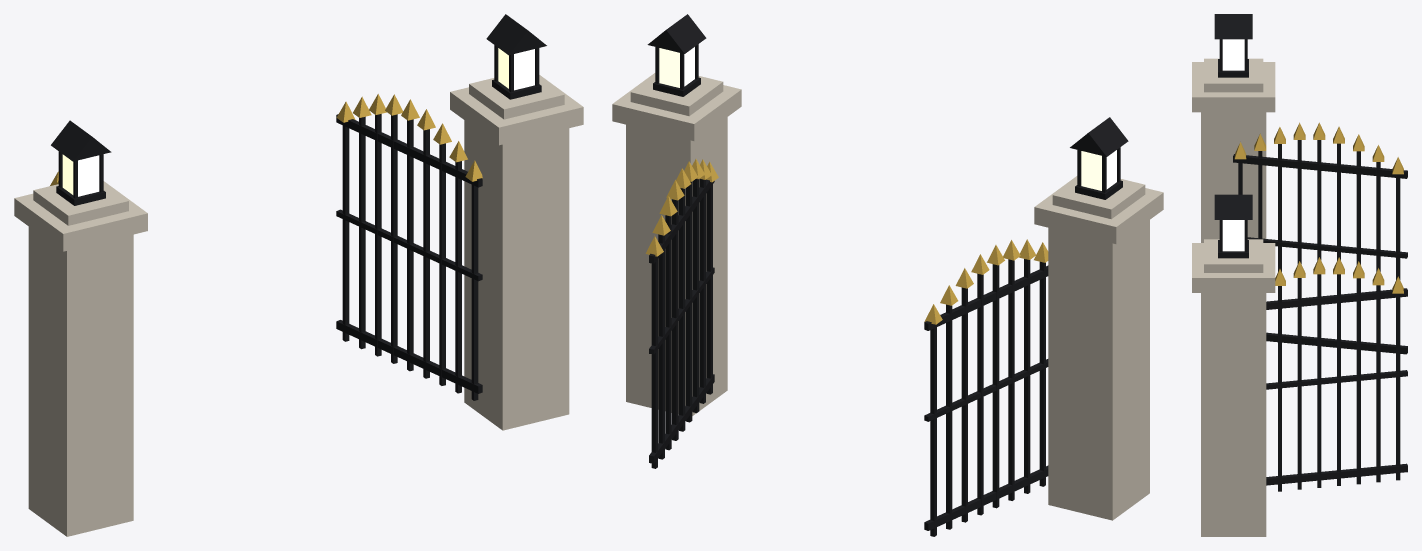
Rendered from gates_stone.glb.
3 renders of one model, left to right at view 1: azimuth 30°, elevation 25°; view 2: azimuth 150°, elevation 25°; view 3: azimuth 270°, elevation 25°, orthographic. The views are drawn at different scales.
Parts seen in each view (by area): view 1: gates_stone; view 2: gates_stone; view 3: gates_stone.
Part boxes in pixels (left/top/right/bottom): gates_stone: left=14, top=14, right=583, bottom=536; gates_stone: left=612, top=14, right=1163, bottom=536; gates_stone: left=1192, top=14, right=1407, bottom=536.
Bounding box in the file's own units: 4.3 × 3.05 × 1.82.
